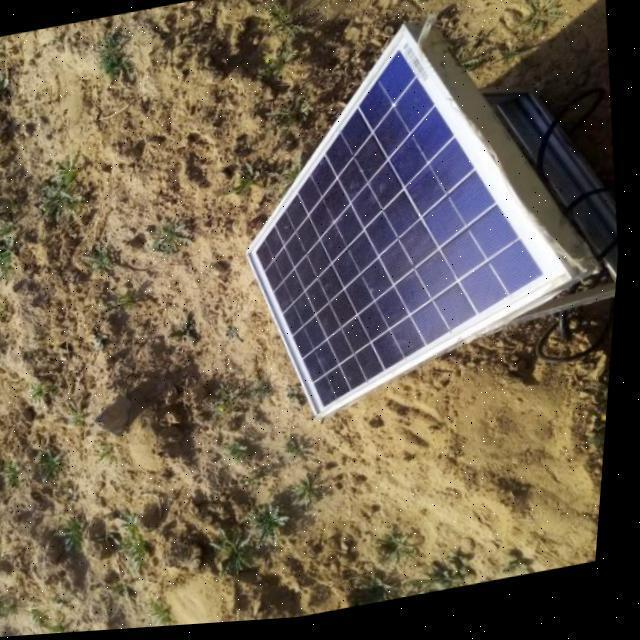Normal Solar Panel: (214, 5, 603, 432)
